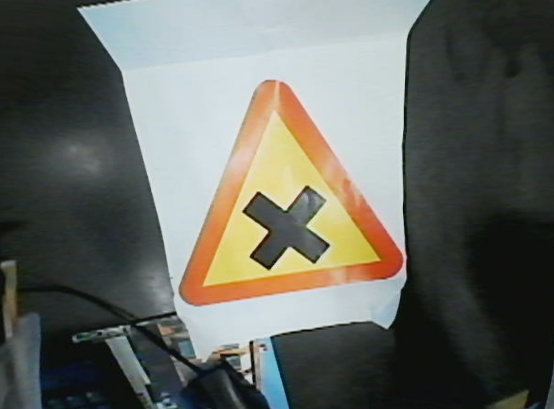junction: (153, 68, 413, 325)
